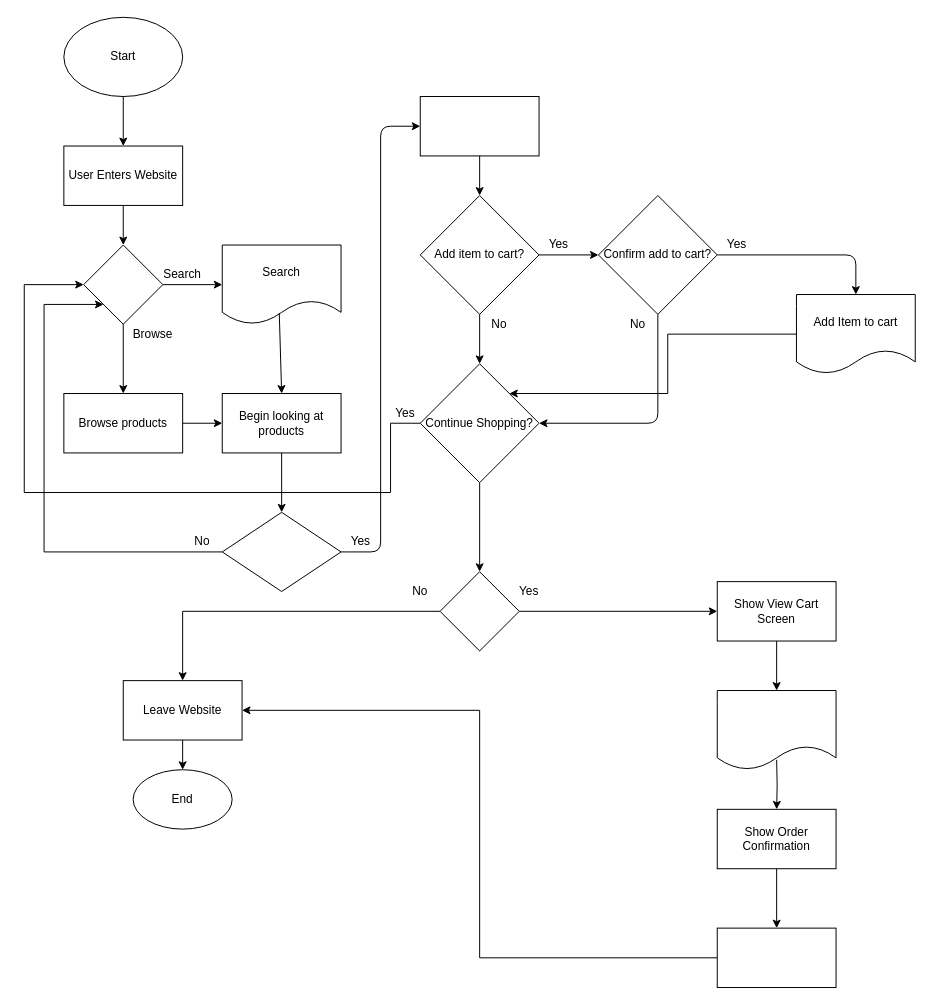
Some shapes in this 933 by 1005 pixel diagram are drawn without their labels. The box of each missing label's shape, as (x1, y1, x2, y2) in pixels:
Browse or Search?: (83, 244, 163, 324)
Checkout?: (439, 571, 519, 651)
Input payment information: (716, 690, 836, 770)
Open product webpage: (419, 96, 539, 156)
Send Email: (716, 927, 836, 988)
View Product?: (221, 511, 341, 592)
